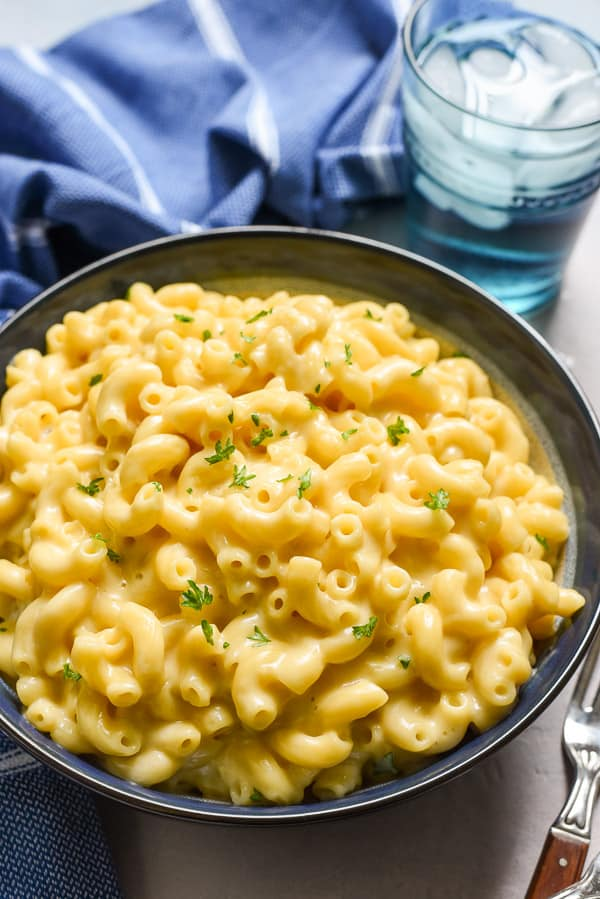macncheese: (11, 206, 600, 854)
